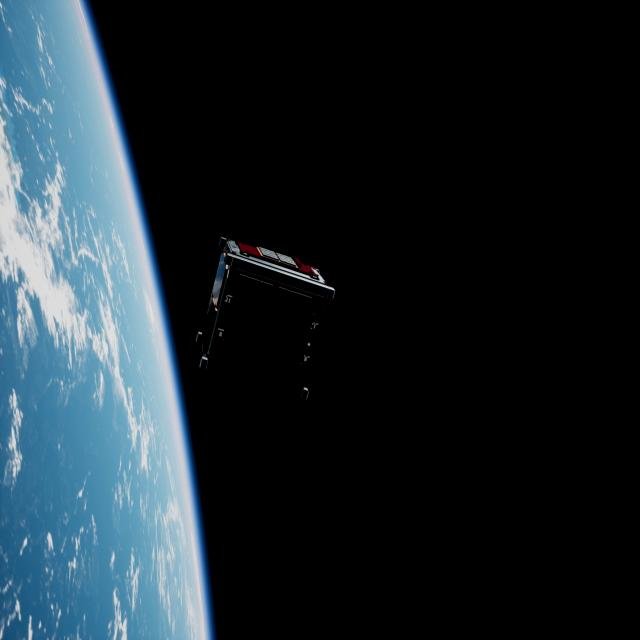medium_debris: (194, 231, 338, 402)
